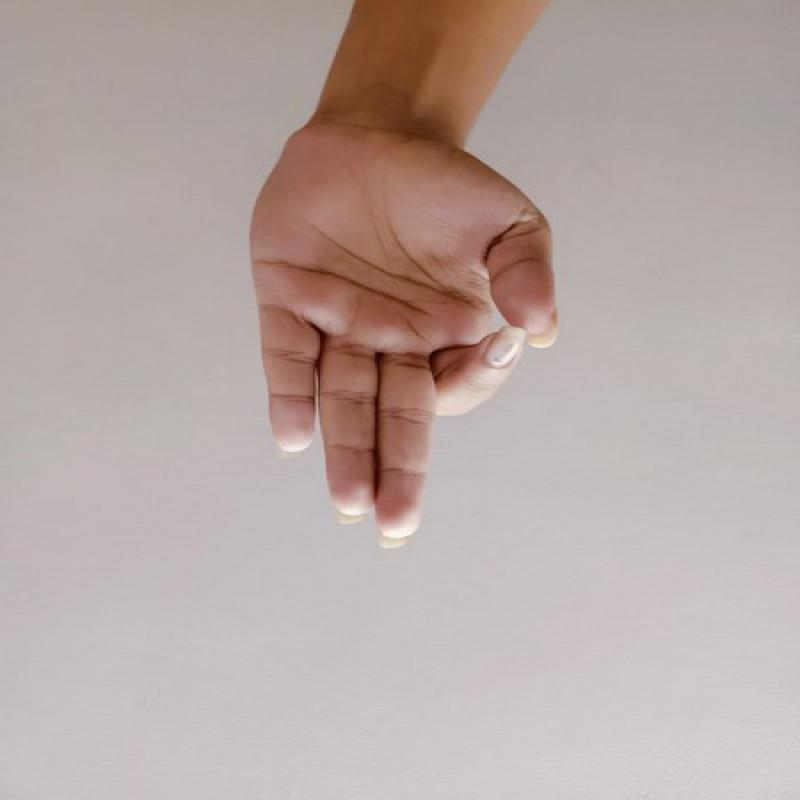Mudraakhyam: (235, 112, 573, 559)
